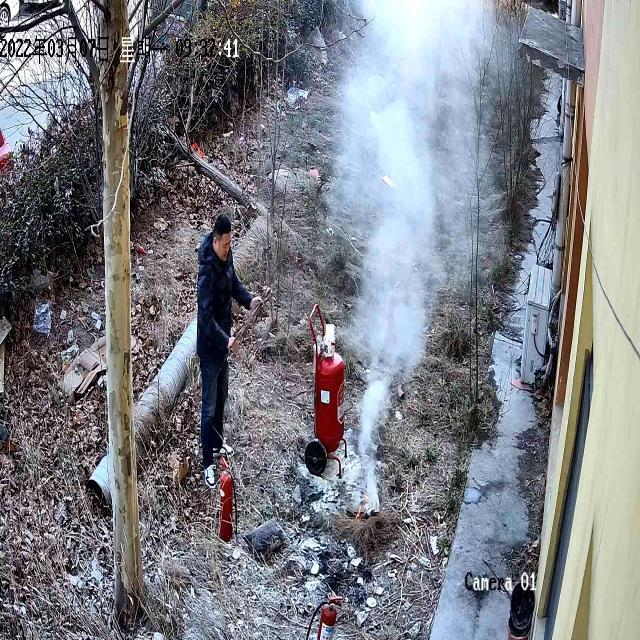Smoke: (312, 0, 570, 352), (353, 350, 403, 519)
